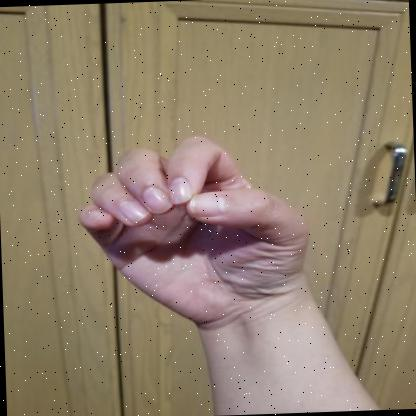O: (79, 136, 319, 325)
